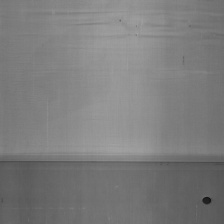welding_line: (1, 153, 223, 175), (200, 191, 215, 209)
